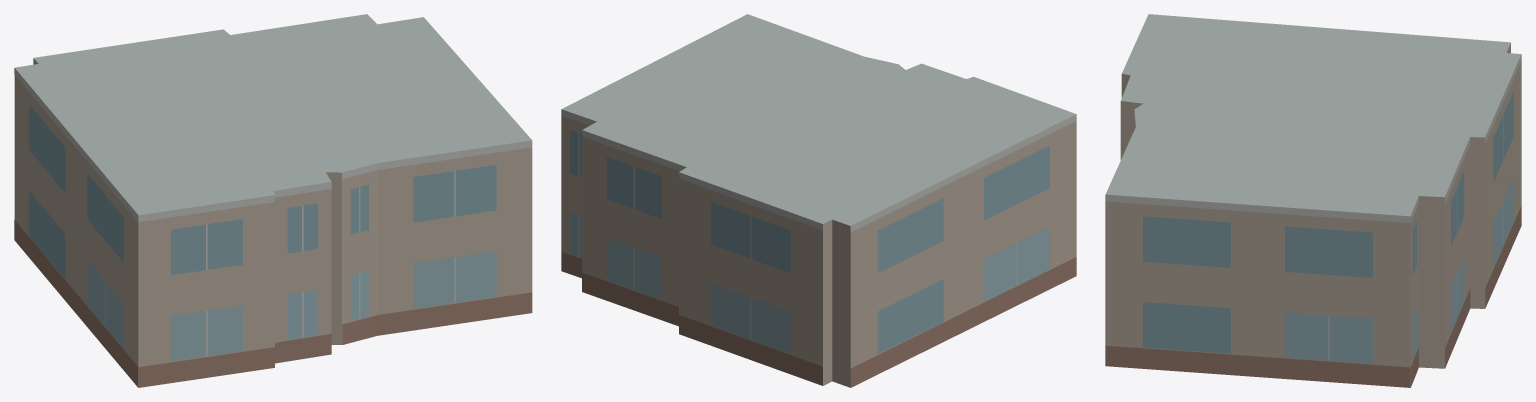
The model's file is survey-upis-32623877.glb.
3 views of the same model, side by side, from view 1: azimuth 30°, elevation 25°; view 2: azimuth 150°, elevation 25°; view 3: azimuth 270°, elevation 25° (orthographic). The views are drawn at different scales.
Parts seen in each view (by area): view 1: survey-upis-32623877.tmp; view 2: survey-upis-32623877.tmp; view 3: survey-upis-32623877.tmp.
Boxes of the visible parts, left/top/right/bottom form: survey-upis-32623877.tmp: left=14, top=14, right=532, bottom=387; survey-upis-32623877.tmp: left=561, top=14, right=1076, bottom=387; survey-upis-32623877.tmp: left=1105, top=14, right=1521, bottom=387.
Size of the model in its own units: 15.45 by 6.1 by 13.42.
